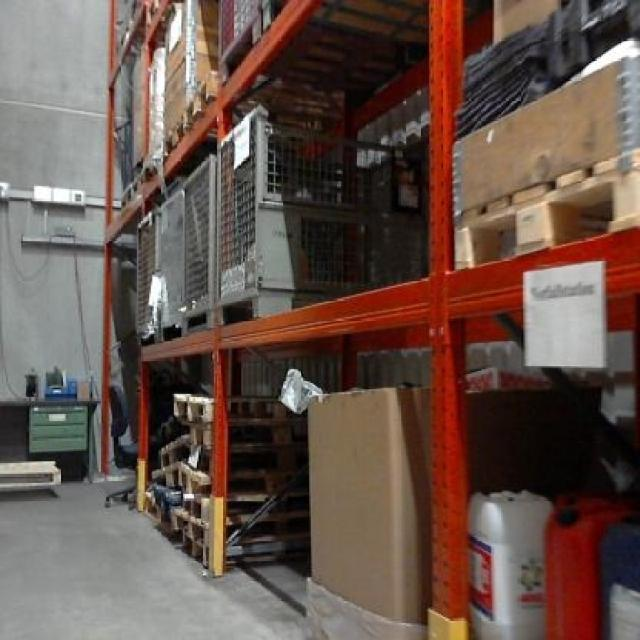pallets: (306, 386, 428, 620)
